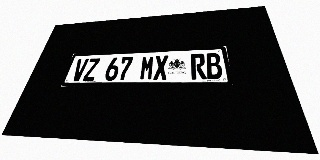6: (104, 57, 121, 81)
7: (117, 57, 133, 81)
B: (205, 53, 223, 79)
M: (139, 56, 155, 80)
R: (190, 53, 207, 79)
V: (70, 59, 89, 81)
X: (153, 55, 168, 80)
Z: (82, 58, 100, 81)
